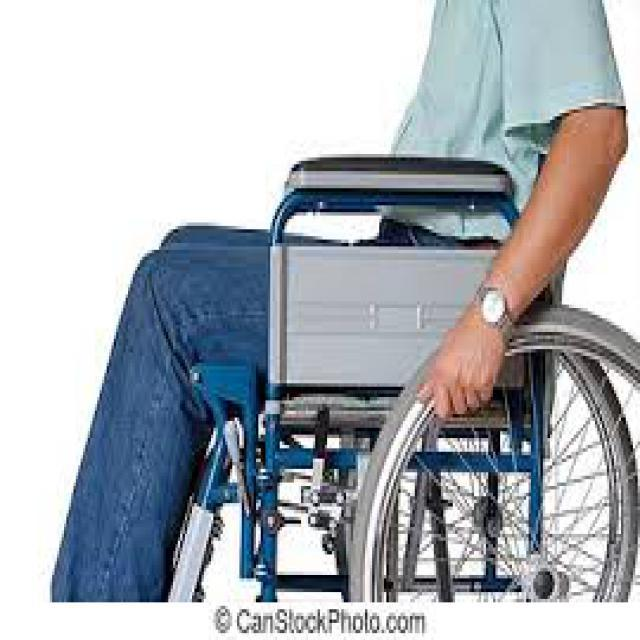wheelchairs: (158, 150, 638, 600)
